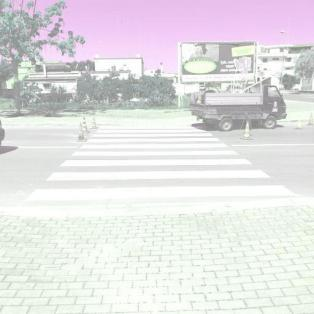Paso de Cebra: (23, 167, 300, 202), (61, 143, 242, 158), (96, 125, 210, 133)
